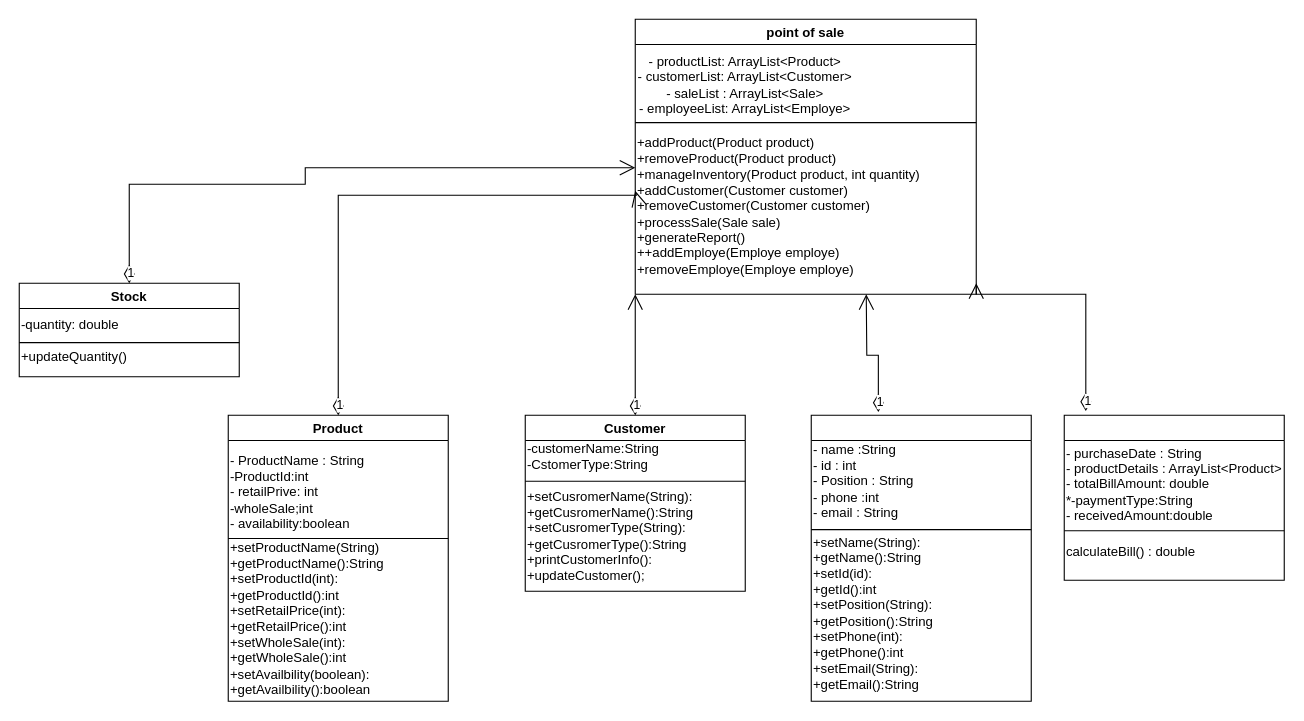
The diagram is 1304 pixels wide and 721 high, and some of its shapes have lost their labels. The shapes that lost their labels are listed below. From the top down, each one's box as (x1, y1, x2, y2) in pixels, then its label:
(1063, 414, 1284, 580): Sale
(810, 414, 1031, 701): Employe
